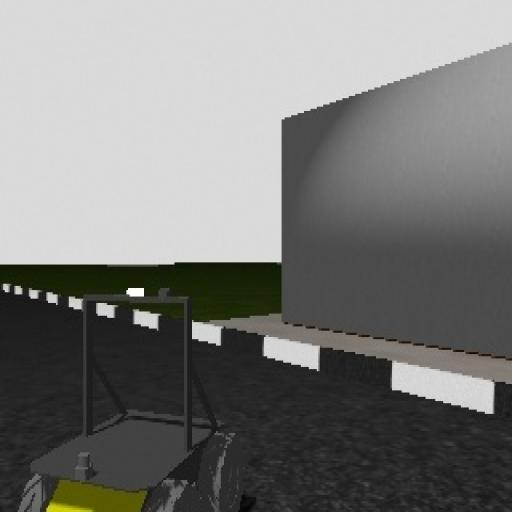huskya200: (10, 281, 256, 512)
